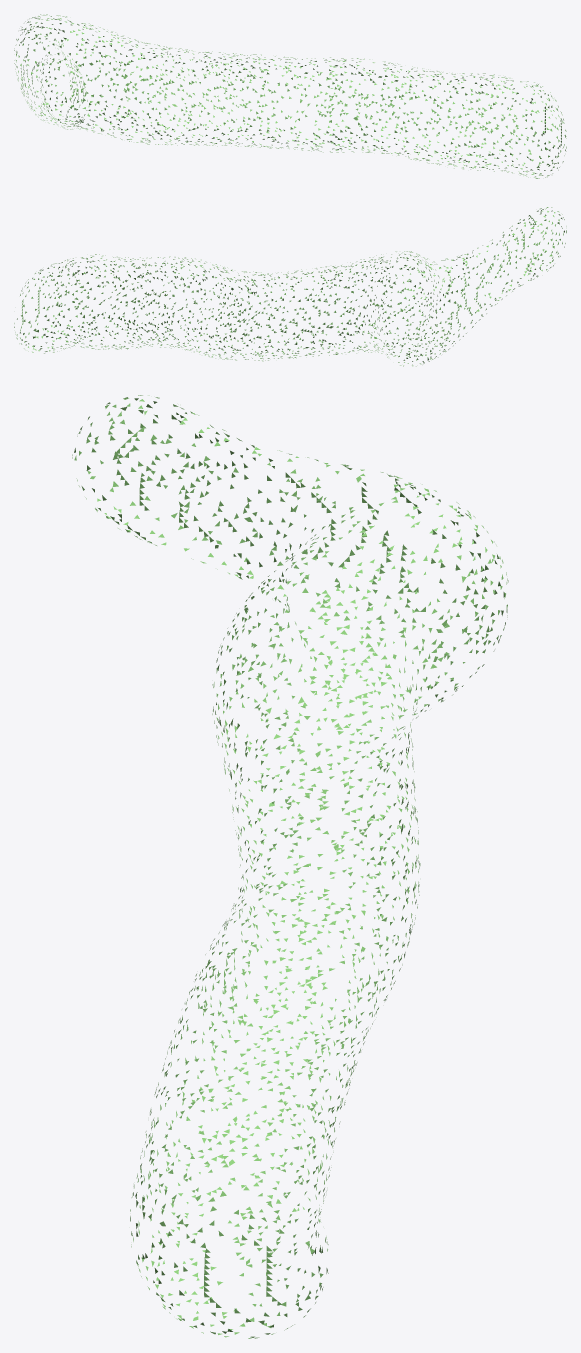
The model's file is morph_015.glb.
3 renders of one model, top to bottom at view 1: azimuth 30°, elevation 25°; view 2: azimuth 150°, elevation 25°; view 3: azimuth 270°, elevation 25°, orthographic. The views are drawn at different scales.
Size of the model in its own units: 137 by 62.39 by 51.58.
